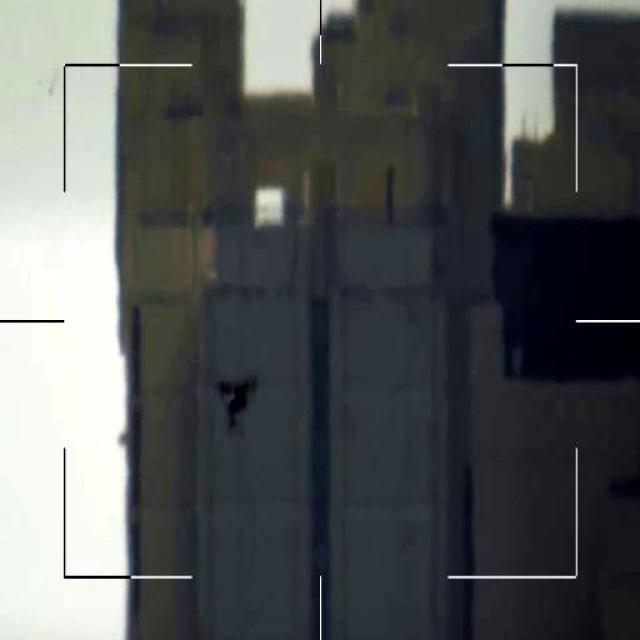bird: (210, 374, 271, 434)
